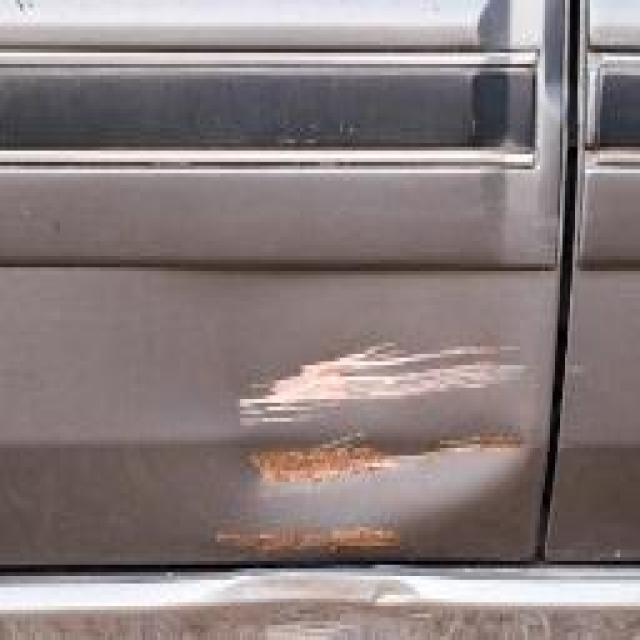Door: (200, 324, 542, 606)
